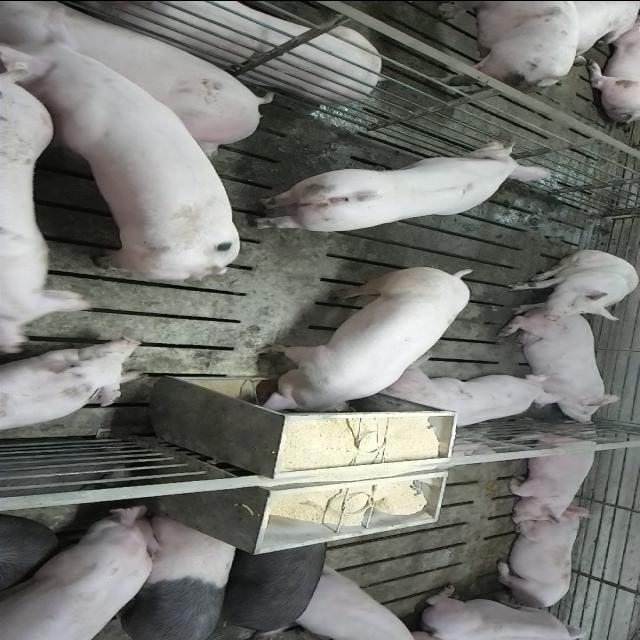Feeding: (250, 270, 474, 422)
Lateral_lying: (29, 0, 383, 103)
Sitting: (502, 249, 638, 320)
Standing: (4, 34, 244, 286), (0, 6, 276, 160), (254, 138, 560, 234), (0, 501, 167, 638), (77, 510, 239, 638), (207, 536, 333, 639), (290, 563, 422, 640)
Sternal_lying: (2, 337, 148, 437), (503, 314, 627, 426), (382, 366, 564, 430), (415, 584, 599, 638), (491, 510, 589, 610), (504, 426, 604, 524)
